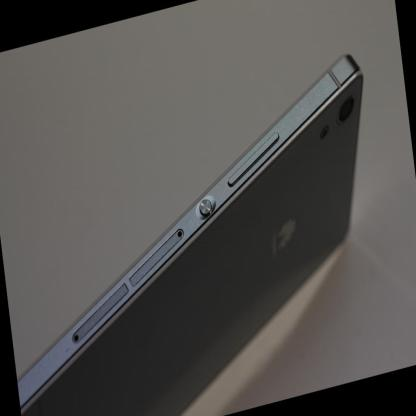phone good: (5, 20, 390, 416)
